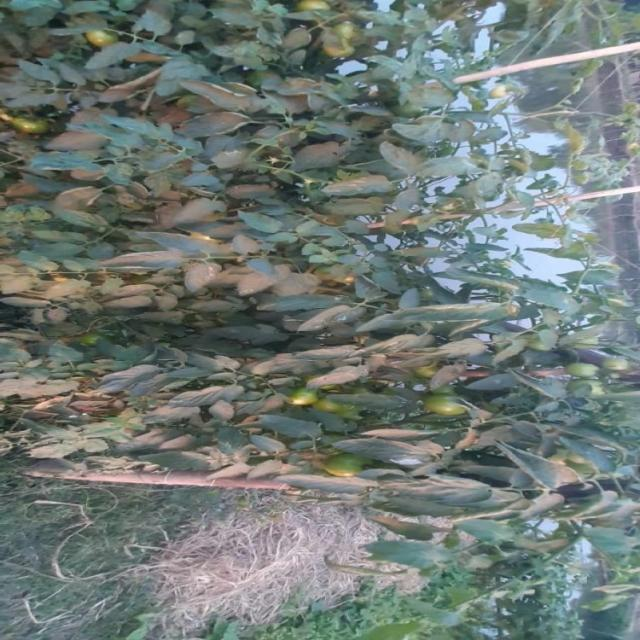tomato: (329, 14, 374, 50), (421, 389, 471, 420), (320, 456, 374, 483), (561, 353, 606, 384), (290, 377, 322, 408), (605, 346, 634, 374), (83, 19, 108, 47), (295, 1, 330, 12)
